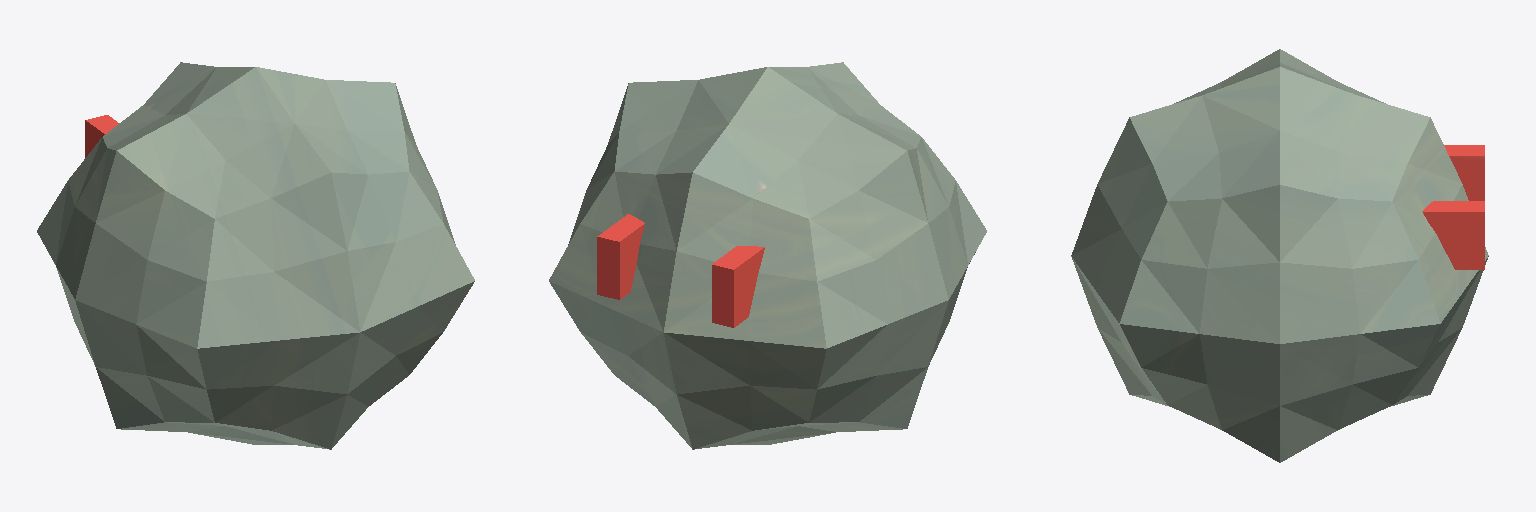
3 renders of one model, left to right at view 1: azimuth 30°, elevation 25°; view 2: azimuth 150°, elevation 25°; view 3: azimuth 270°, elevation 25°, orthographic.
Visible parts, largest first — view 1: 立方体_立方体.001; view 2: 立方体_立方体.001; view 3: 立方体_立方体.001.
Boxes of the visible parts, box(x1,y1,x2,y2) form: 立方体_立方体.001: box(37, 62, 474, 449); 立方体_立方体.001: box(549, 62, 986, 449); 立方体_立方体.001: box(1071, 49, 1488, 462).
Bounding box in the file's own units: 2.6 × 2.6 × 2.6.
1 materials, 1 textured.